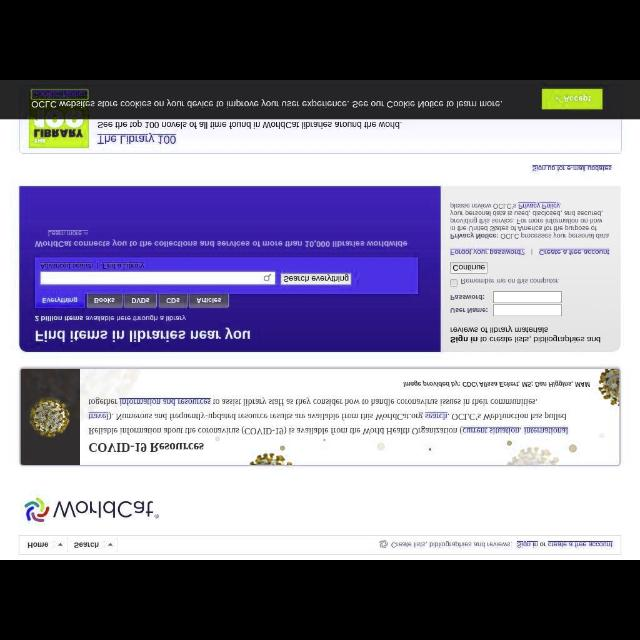backgroundimage: (19, 369, 617, 465)
checkbox: (450, 280, 458, 286)
icon: (377, 539, 389, 549), (262, 274, 272, 282), (58, 542, 62, 546), (109, 543, 113, 545)
iframe: (1, 82, 639, 118)
image: (23, 493, 159, 523), (30, 121, 90, 147)
input: (42, 272, 274, 284), (493, 291, 562, 303), (492, 305, 562, 315)
link: (97, 132, 177, 144), (118, 398, 212, 407), (450, 247, 526, 257), (532, 164, 612, 172), (538, 248, 612, 255), (462, 426, 520, 434), (548, 541, 614, 547), (522, 426, 570, 434), (518, 202, 562, 210), (517, 540, 539, 548), (88, 412, 109, 420), (424, 412, 448, 418)
spinner: (28, 540, 64, 548), (74, 542, 114, 548)
text: (88, 398, 572, 436), (450, 202, 610, 240), (35, 239, 408, 249), (36, 326, 252, 342), (450, 326, 602, 344), (97, 120, 400, 128), (402, 378, 592, 390), (86, 440, 204, 454), (33, 314, 187, 324), (460, 277, 560, 285), (392, 541, 512, 547), (44, 228, 90, 238), (40, 262, 94, 270), (41, 296, 77, 304), (102, 262, 146, 268), (450, 308, 488, 314), (450, 294, 484, 300), (74, 542, 100, 548), (197, 298, 223, 304), (94, 297, 116, 303), (28, 542, 48, 548), (166, 297, 180, 305), (132, 297, 150, 303), (540, 541, 546, 547)
textbutton: (280, 273, 350, 283), (450, 262, 488, 272)
toolbar: (36, 294, 230, 306)
